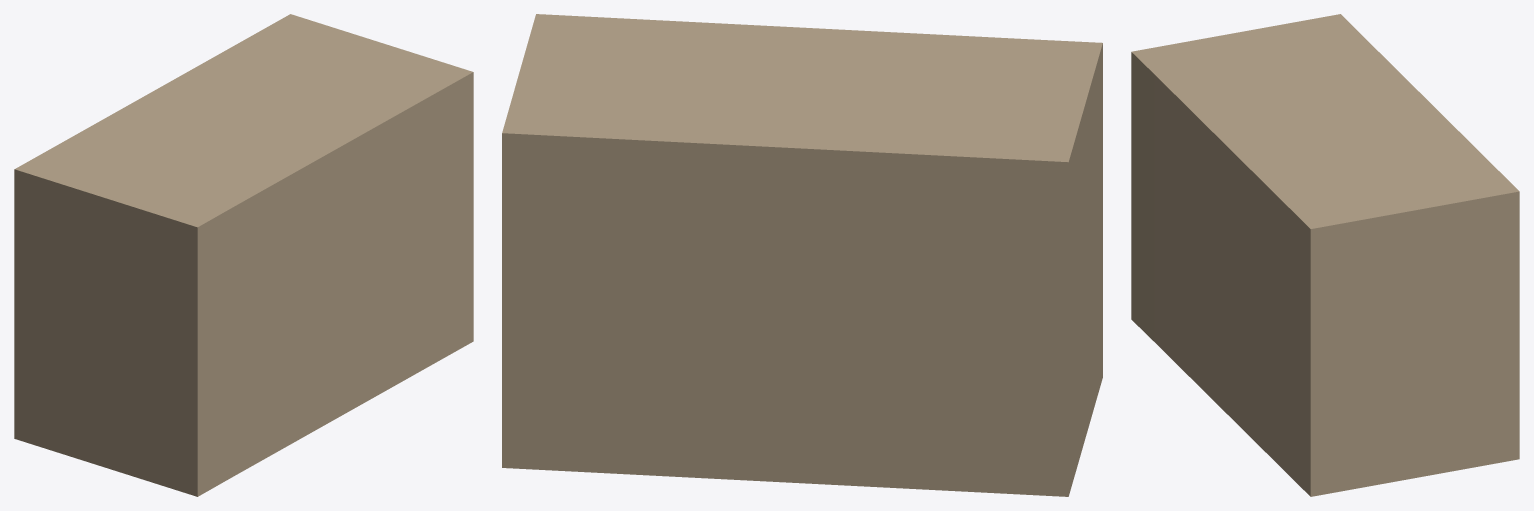
File: bld_106306691.dae
3 views of the same model, side by side, from view 1: azimuth 30°, elevation 25°; view 2: azimuth 150°, elevation 25°; view 3: azimuth 270°, elevation 25° (orthographic). The views are drawn at different scales.
Parts seen in each view (by area): view 1: bld_106306691; view 2: bld_106306691; view 3: bld_106306691.
Boxes of the visible parts, bbox=[...] form: bld_106306691: bbox=[14, 14, 473, 496]; bld_106306691: bbox=[502, 14, 1102, 496]; bld_106306691: bbox=[1131, 14, 1519, 496].
Size of the model in its own units: 13.79 by 10.51 by 8.
